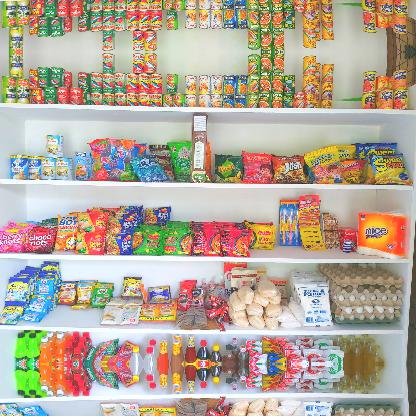Koko-Krunch: (191, 114, 208, 182)
